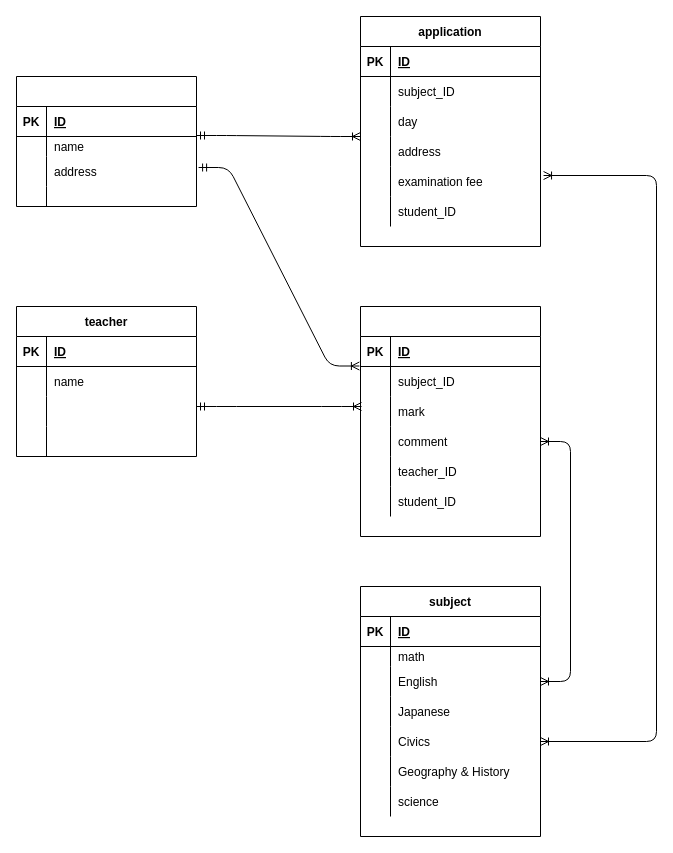
This 673x853 diagram has some shape labels left out. The box of each missing label's shape, as (x1, y1, x2, y2) in pixels:
student: (16, 76, 196, 206)
test: (360, 306, 540, 536)
